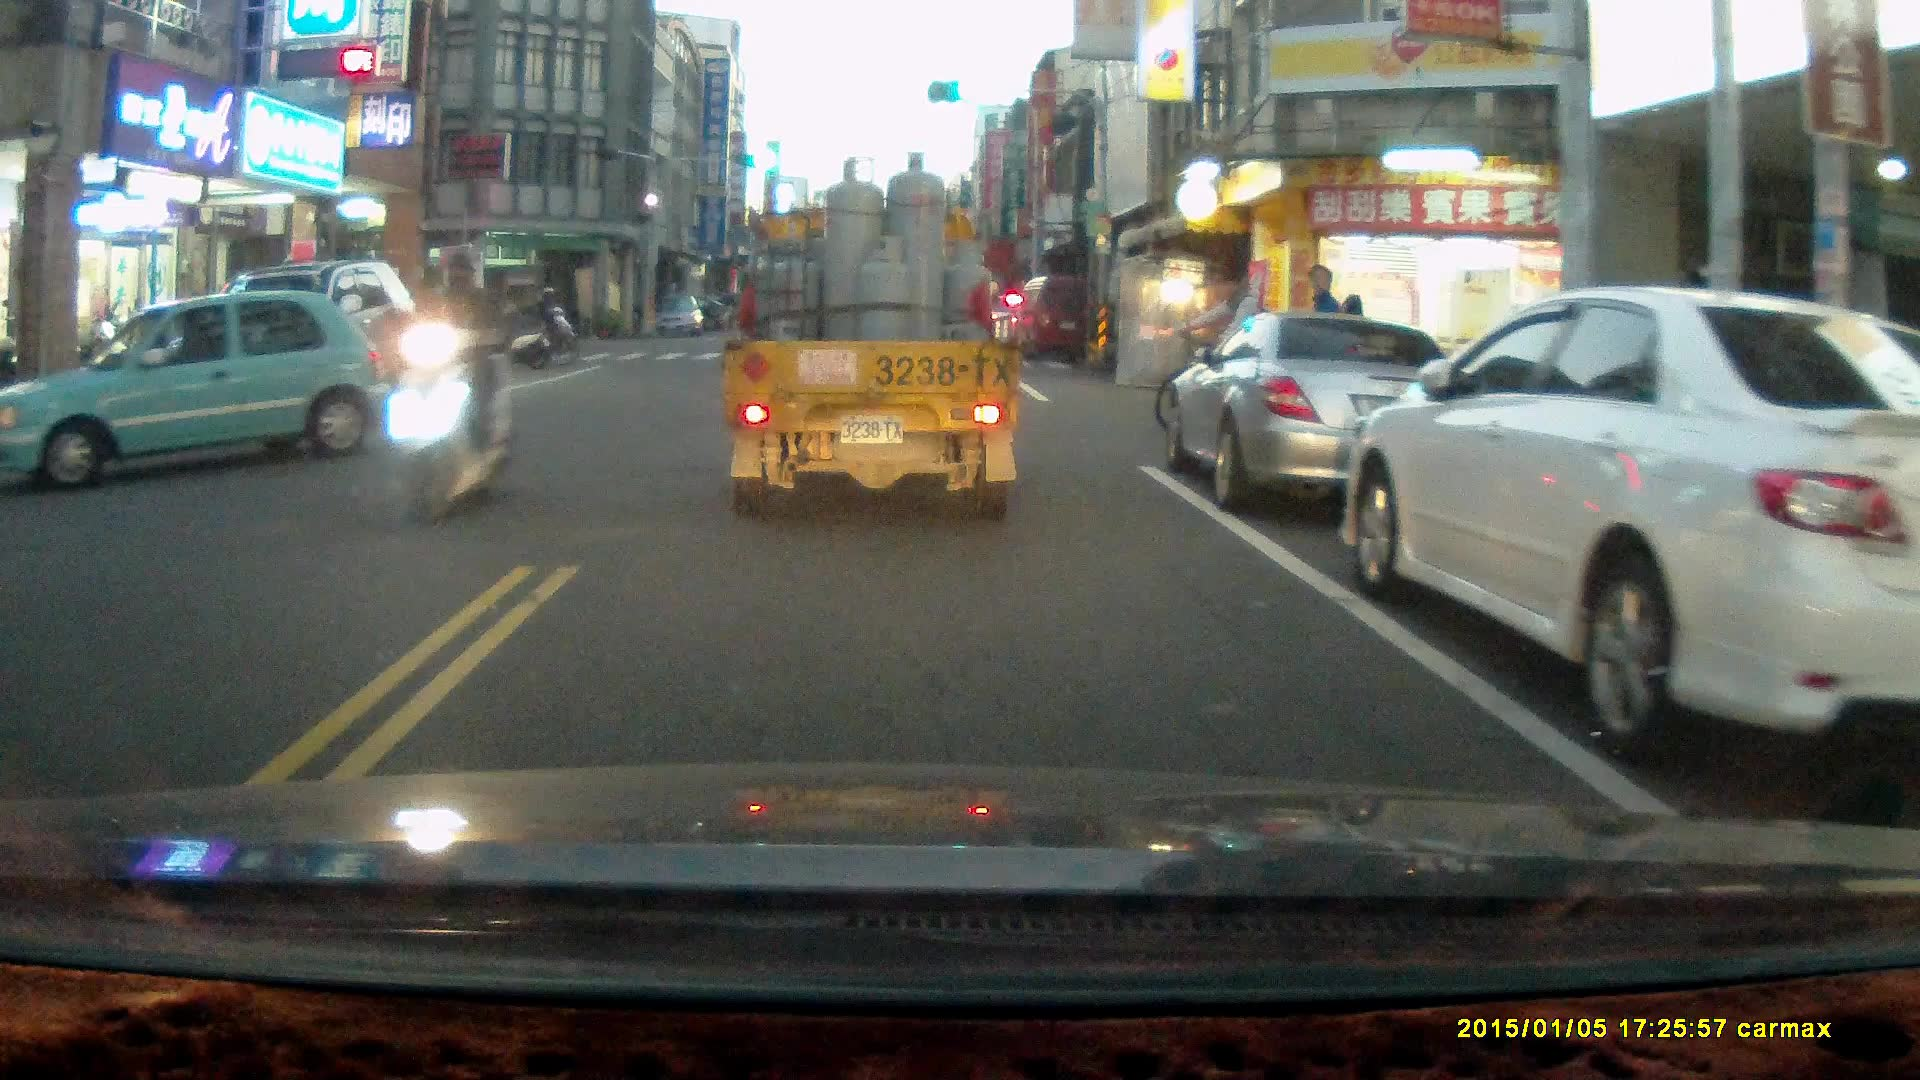rider: (383, 243, 514, 531), (1154, 272, 1314, 449), (519, 286, 582, 357)
vehicle: (1349, 283, 1920, 766), (724, 152, 1020, 522), (1, 287, 370, 492), (1159, 310, 1482, 510), (1014, 270, 1115, 361), (652, 293, 707, 340)
